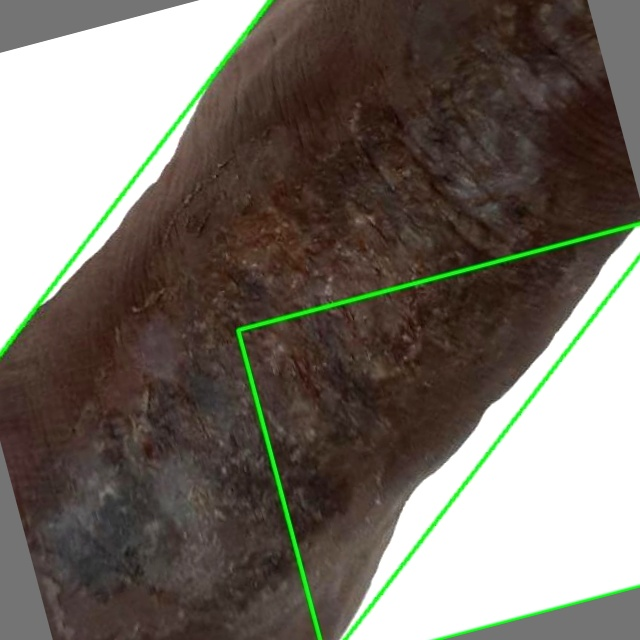Contact Dermatitis: (18, 0, 619, 639), (238, 224, 639, 639)
